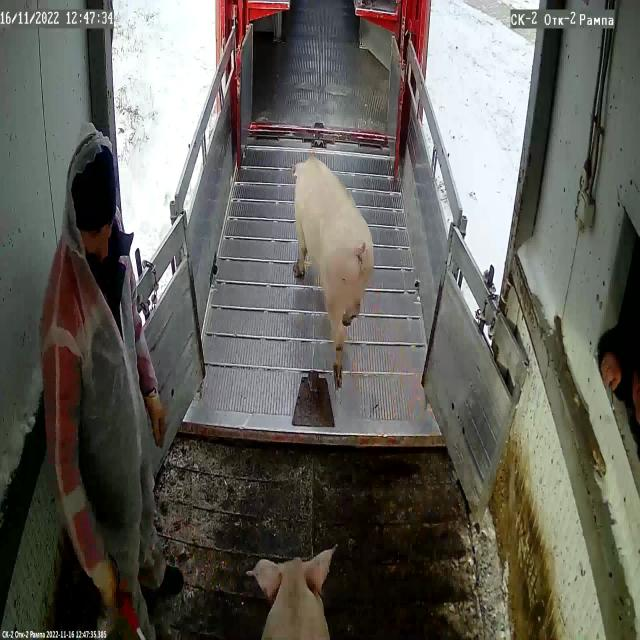pig: (295, 157, 374, 383), (248, 550, 334, 640)
